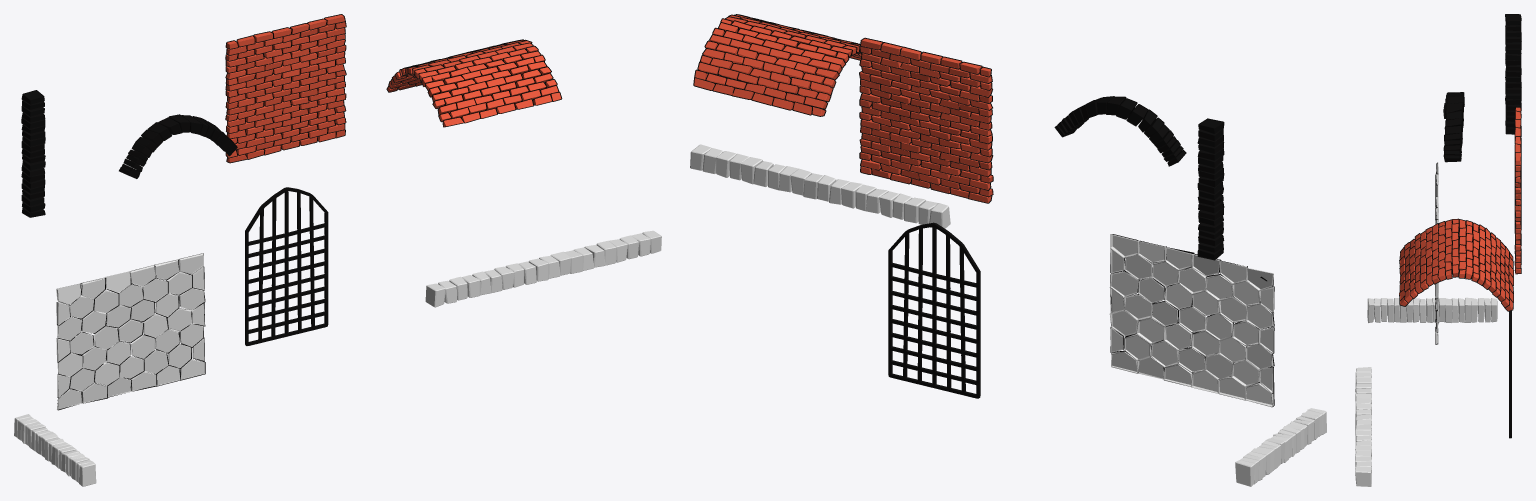
File: MODULOS.fbx
The picture shows the model from 3 angles, left to right: view 1: azimuth 30°, elevation 25°; view 2: azimuth 150°, elevation 25°; view 3: azimuth 270°, elevation 25°; orthographic projection. The views are drawn at different scales.
Parts seen in each view (by area): view 1: Cilindro.008, pared de ladrillos.025, pared de ladrillos.026, Plano.005, Cubo.043, Cubo.042, Cubo.041, Cubo.044; view 2: Cilindro.008, pared de ladrillos.025, pared de ladrillos.026, Plano.005, Cubo.043, Cubo.042, Cubo.044, Cubo.041; view 3: pared de ladrillos.026, Cubo.044, Cubo.043, Cubo.042, Cubo.041, pared de ladrillos.025, Cilindro.008, Plano.005.
Boxes of the visible parts, x1,y1,x2,y2 form: Cilindro.008: (56,253,205,410); pared de ladrillos.025: (225,14,346,163); pared de ladrillos.026: (386,39,562,127); Plano.005: (245,187,328,345); Cubo.043: (425,230,661,307); Cubo.042: (21,90,45,217); Cubo.041: (119,114,237,178); Cubo.044: (14,414,96,486); Cilindro.008: (1109,234,1274,407); pared de ladrillos.025: (859,37,993,203); pared de ladrillos.026: (693,14,861,116); Plano.005: (888,222,980,398); Cubo.043: (690,144,950,229); Cubo.042: (1197,118,1224,260); Cubo.044: (1235,408,1326,486); Cubo.041: (1054,96,1186,166); pared de ladrillos.026: (1399,218,1514,311); Cubo.044: (1367,297,1497,322); Cubo.043: (1355,367,1371,486); Cubo.042: (1505,14,1521,134); Cubo.041: (1443,92,1464,162); pared de ladrillos.025: (1514,106,1521,274); Cilindro.008: (1435,162,1438,344); Plano.005: (1509,310,1511,438).
Size of the model in its own units: 1251 by 691 by 332.
